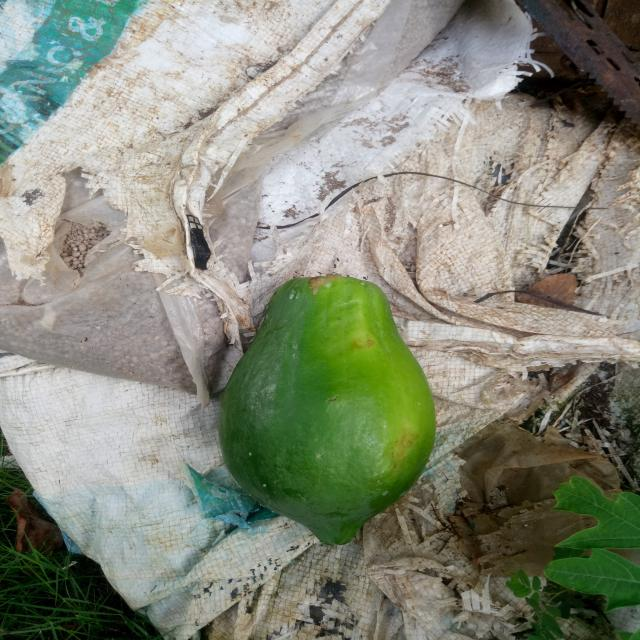Pepaya unrippen: (218, 266, 432, 546)
